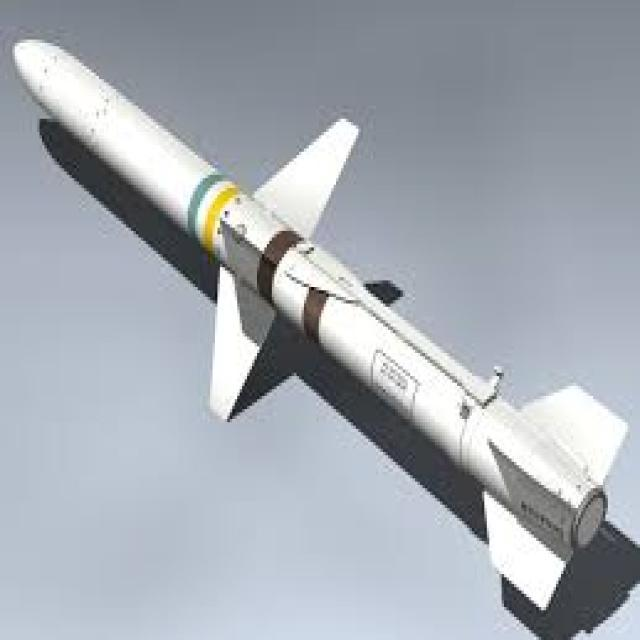missile: (12, 33, 630, 615)
